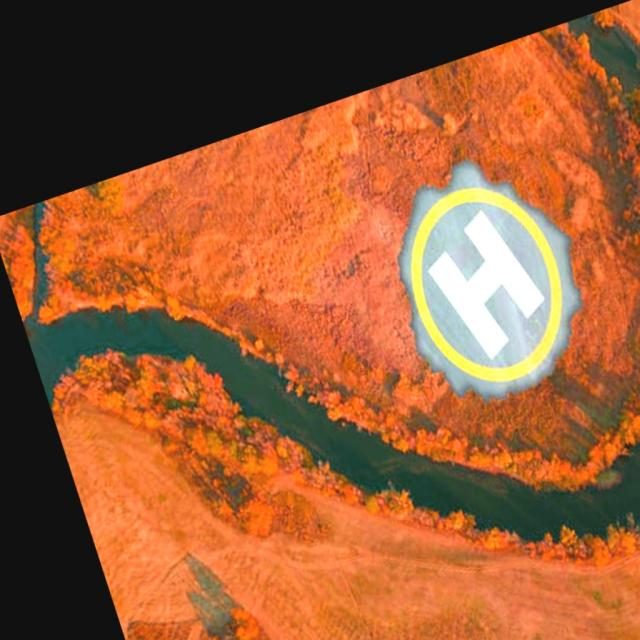helipad: (402, 180, 567, 388)
